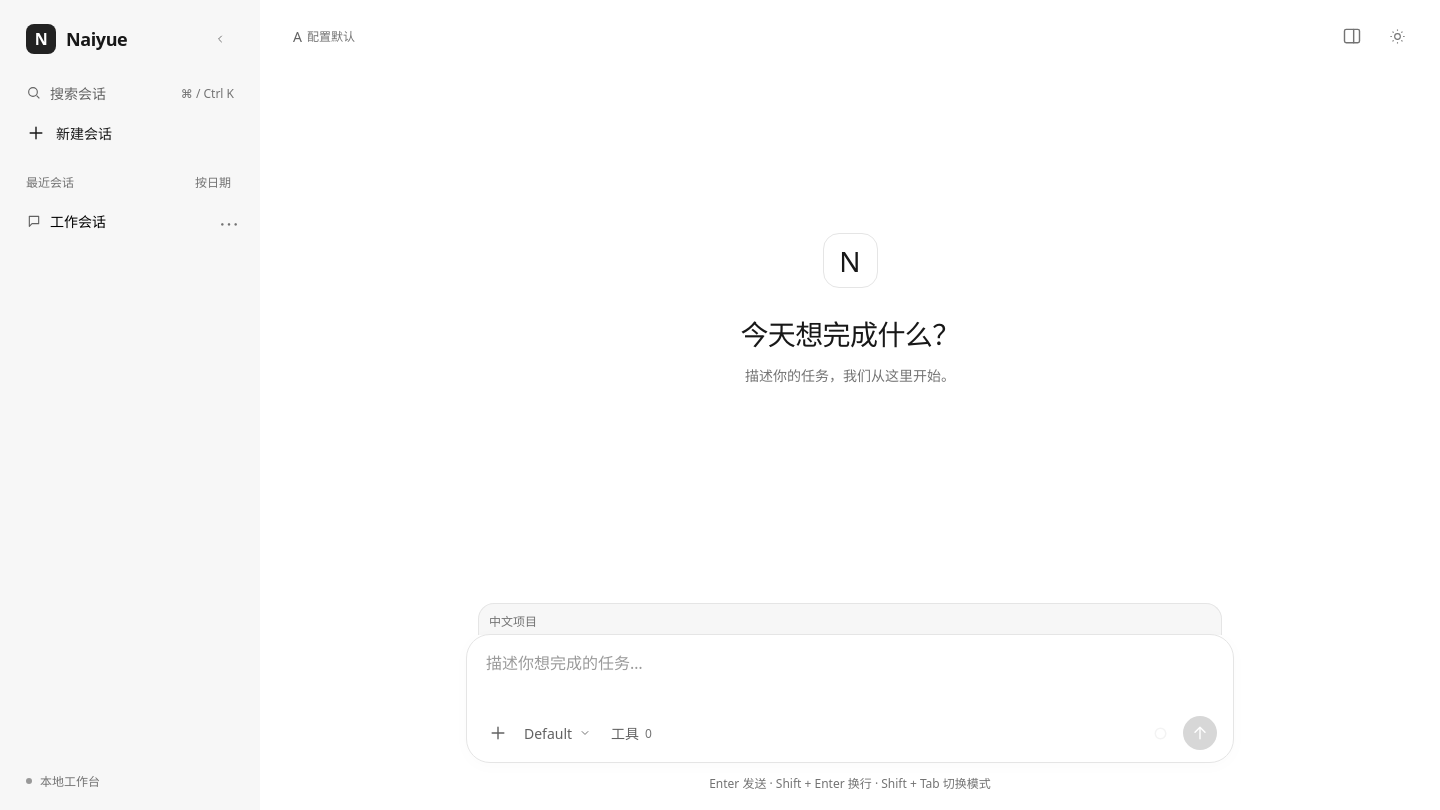
Test case: displays the selected session path C:\工作\Windows项目 instead of service identity
Check: the text "中文项目" is shown, box [489, 612, 537, 630]
Click the button with aria-label "工作会话 A". click: [130, 221]
box: [14, 202, 246, 240]
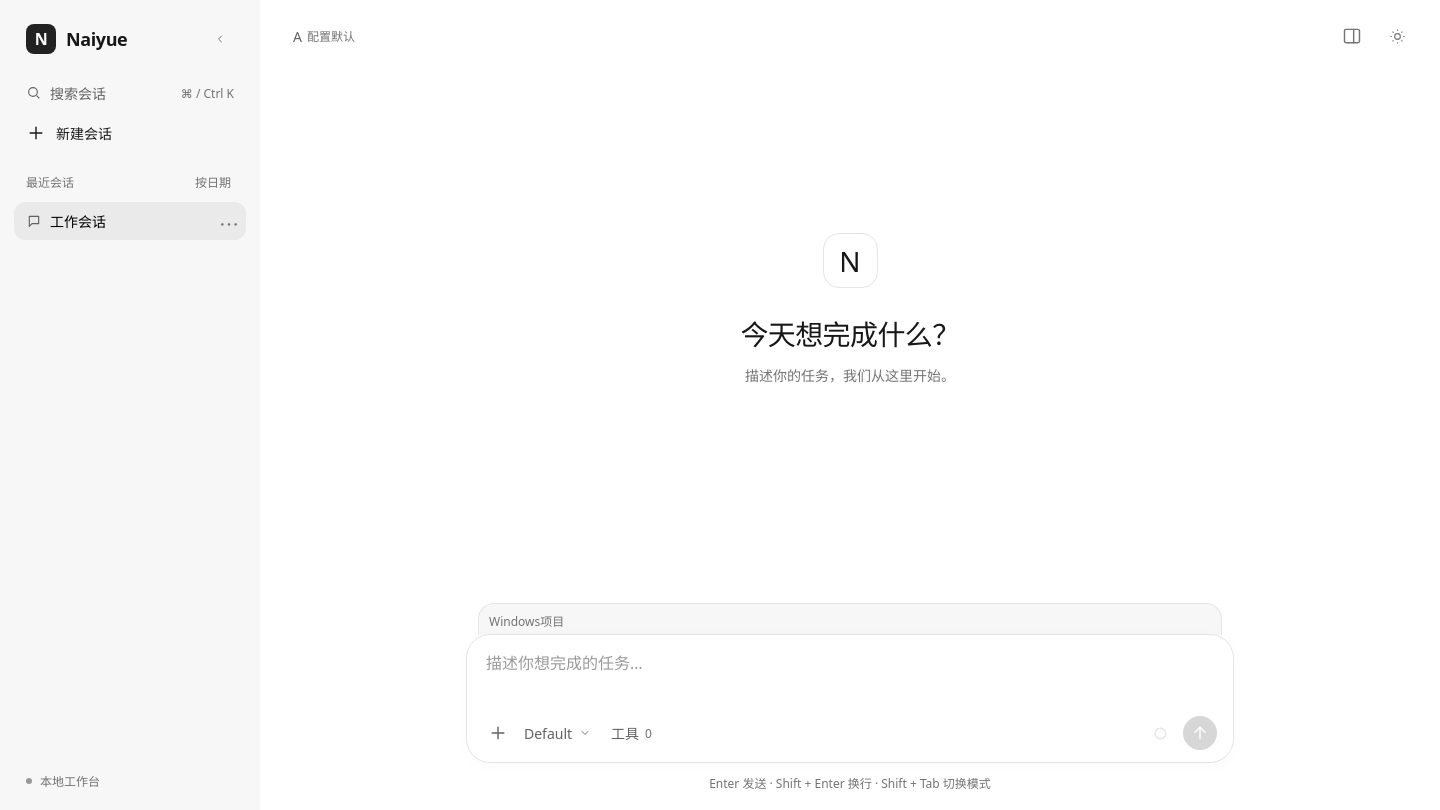
Check: the text titled "C:\\工作\\Windows项目" is shown, box [489, 613, 564, 630]
Check: the text "中文项目" is gone
